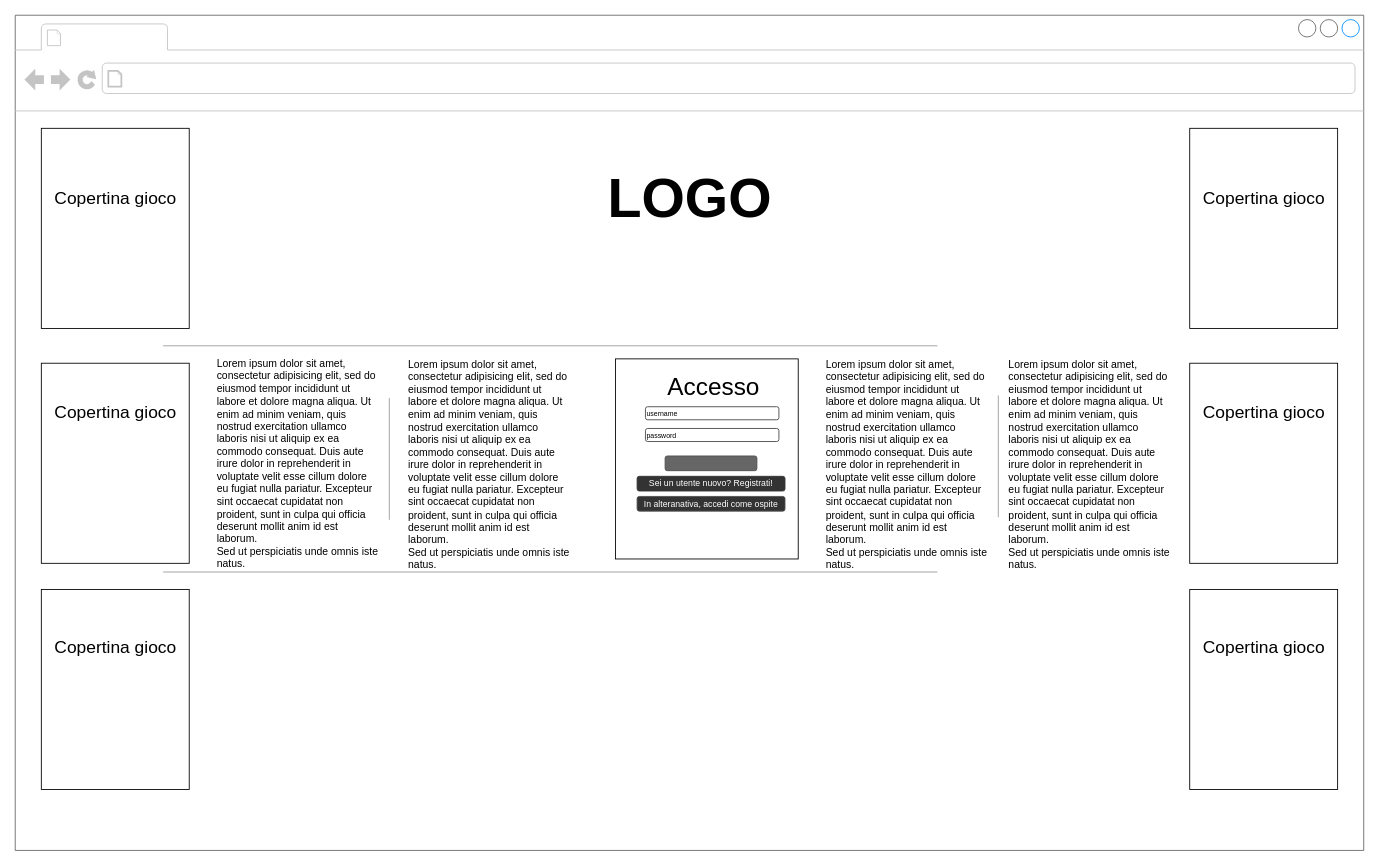
Some shapes in this 1379 by 866 pixel diagram are drawn without their labels. Here are the shapes that lost their labels. From the top down, the centre of each, then its label:
the point at 115,36: Page 1
the point at 236,78: https://www.default.com
the point at 710,463: Accedi
